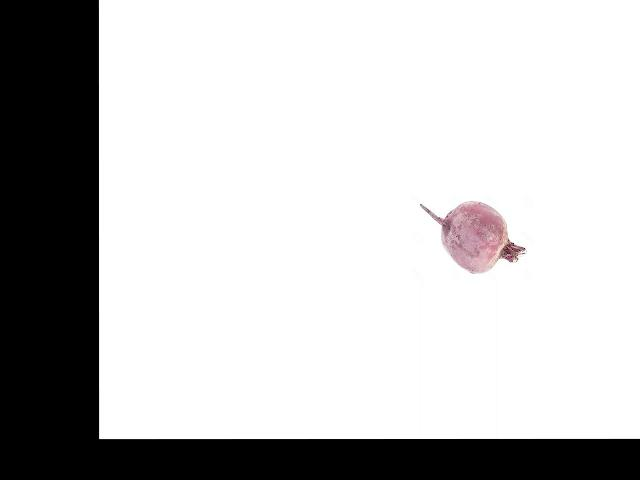beet: (421, 201, 526, 272)
